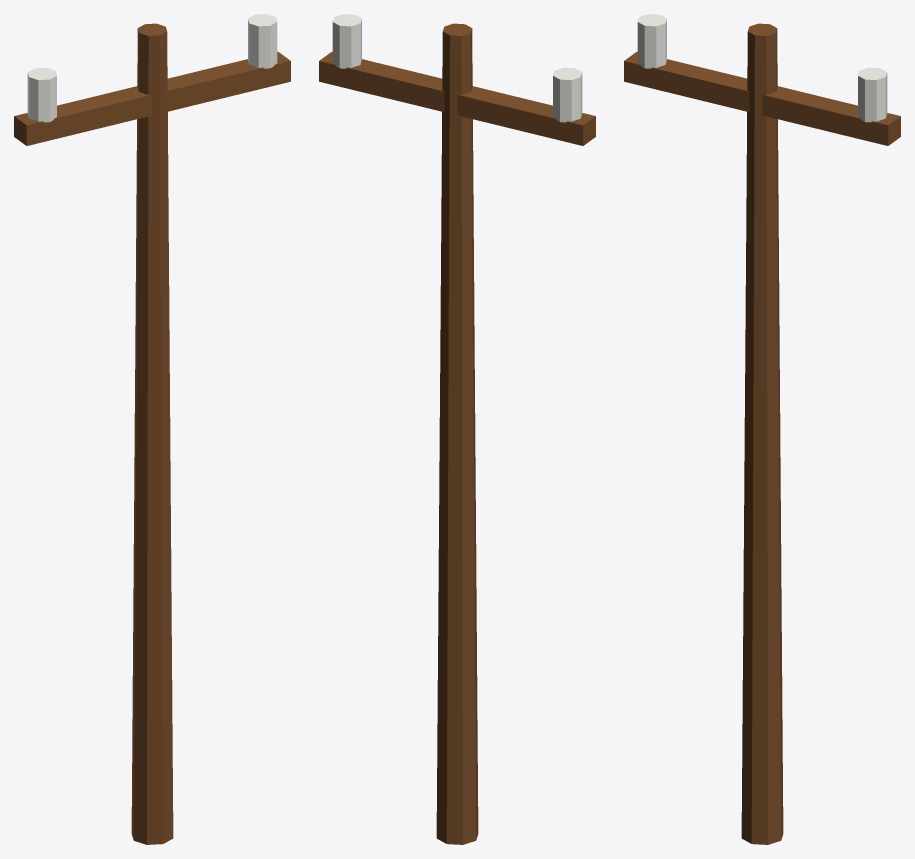
Rendered from utility_pole.glb.
The picture shows the model from 3 angles, left to right: view 1: azimuth 30°, elevation 25°; view 2: azimuth 150°, elevation 25°; view 3: azimuth 330°, elevation 25°; orthographic projection.
Parts seen in each view (by area): view 1: utility_pole__static; view 2: utility_pole__static; view 3: utility_pole__static.
Boxes of the visible parts, left/top/right/bottom form: utility_pole__static: left=14, top=14, right=290, bottom=844; utility_pole__static: left=319, top=14, right=595, bottom=844; utility_pole__static: left=624, top=14, right=900, bottom=844.
Size of the model in its own units: 2.4 by 7 by 0.34.
